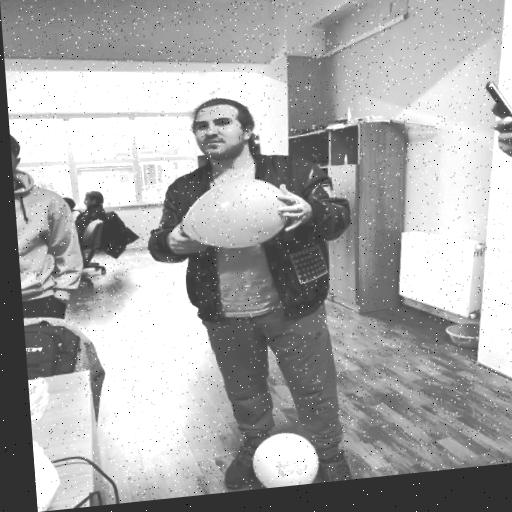balloon: (181, 163, 302, 256), (257, 426, 331, 489)
